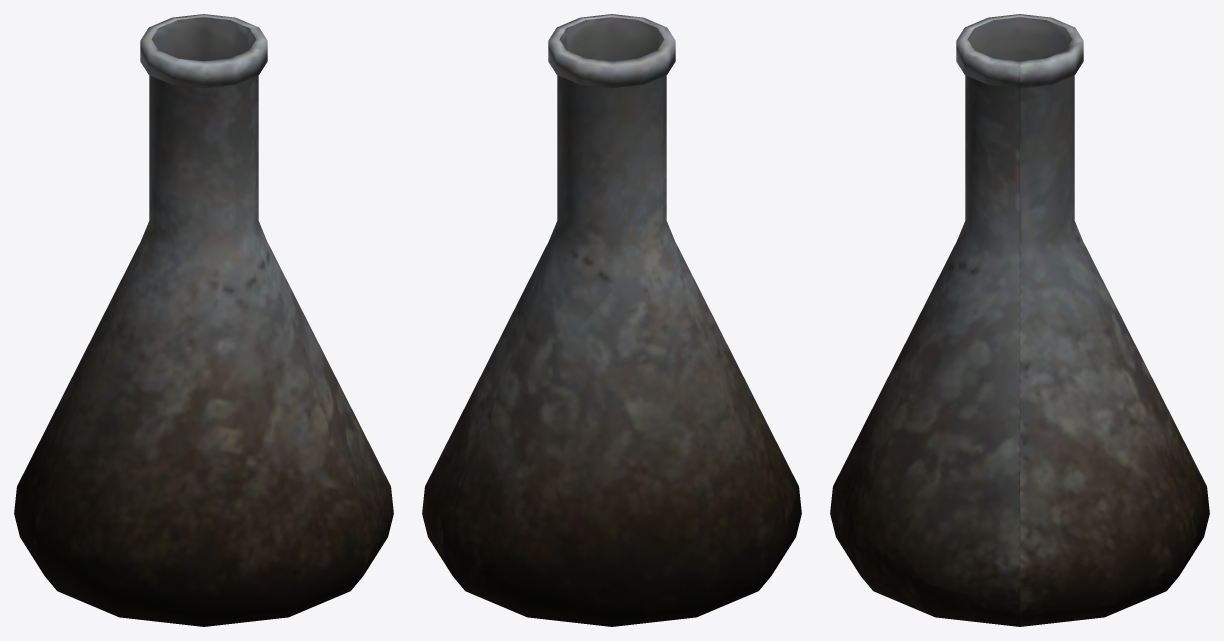
File: flask_broken.dae
3 views of the same model, side by side, from view 1: azimuth 30°, elevation 25°; view 2: azimuth 150°, elevation 25°; view 3: azimuth 270°, elevation 25° (orthographic).
Parts seen in each view (by area): view 1: polySurface29, polySurface3, polySurface27, polySurface31; view 2: polySurface29, polySurface3, polySurface32, polySurface27, polySurface31; view 3: polySurface31, polySurface32, polySurface3, polySurface27, polySurface29.
Part boxes in pixels (<box>): polySurface29: <box>25,285,350,569</box>; polySurface3: <box>117,14,279,339</box>; polySurface27: <box>14,467,393,626</box>; polySurface31: <box>204,266,393,513</box>; polySurface29: <box>475,275,789,602</box>; polySurface3: <box>548,14,692,319</box>; polySurface32: <box>424,290,655,575</box>; polySurface27: <box>422,469,801,626</box>; polySurface31: <box>467,219,611,403</box>; polySurface31: <box>872,206,1119,582</box>; polySurface32: <box>925,314,1195,610</box>; polySurface3: <box>926,14,1083,302</box>; polySurface27: <box>830,488,1209,626</box>; polySurface29: <box>831,409,1207,536</box>.
Size of the model in its own units: 0.1986 by 0.3029 by 0.1986.
